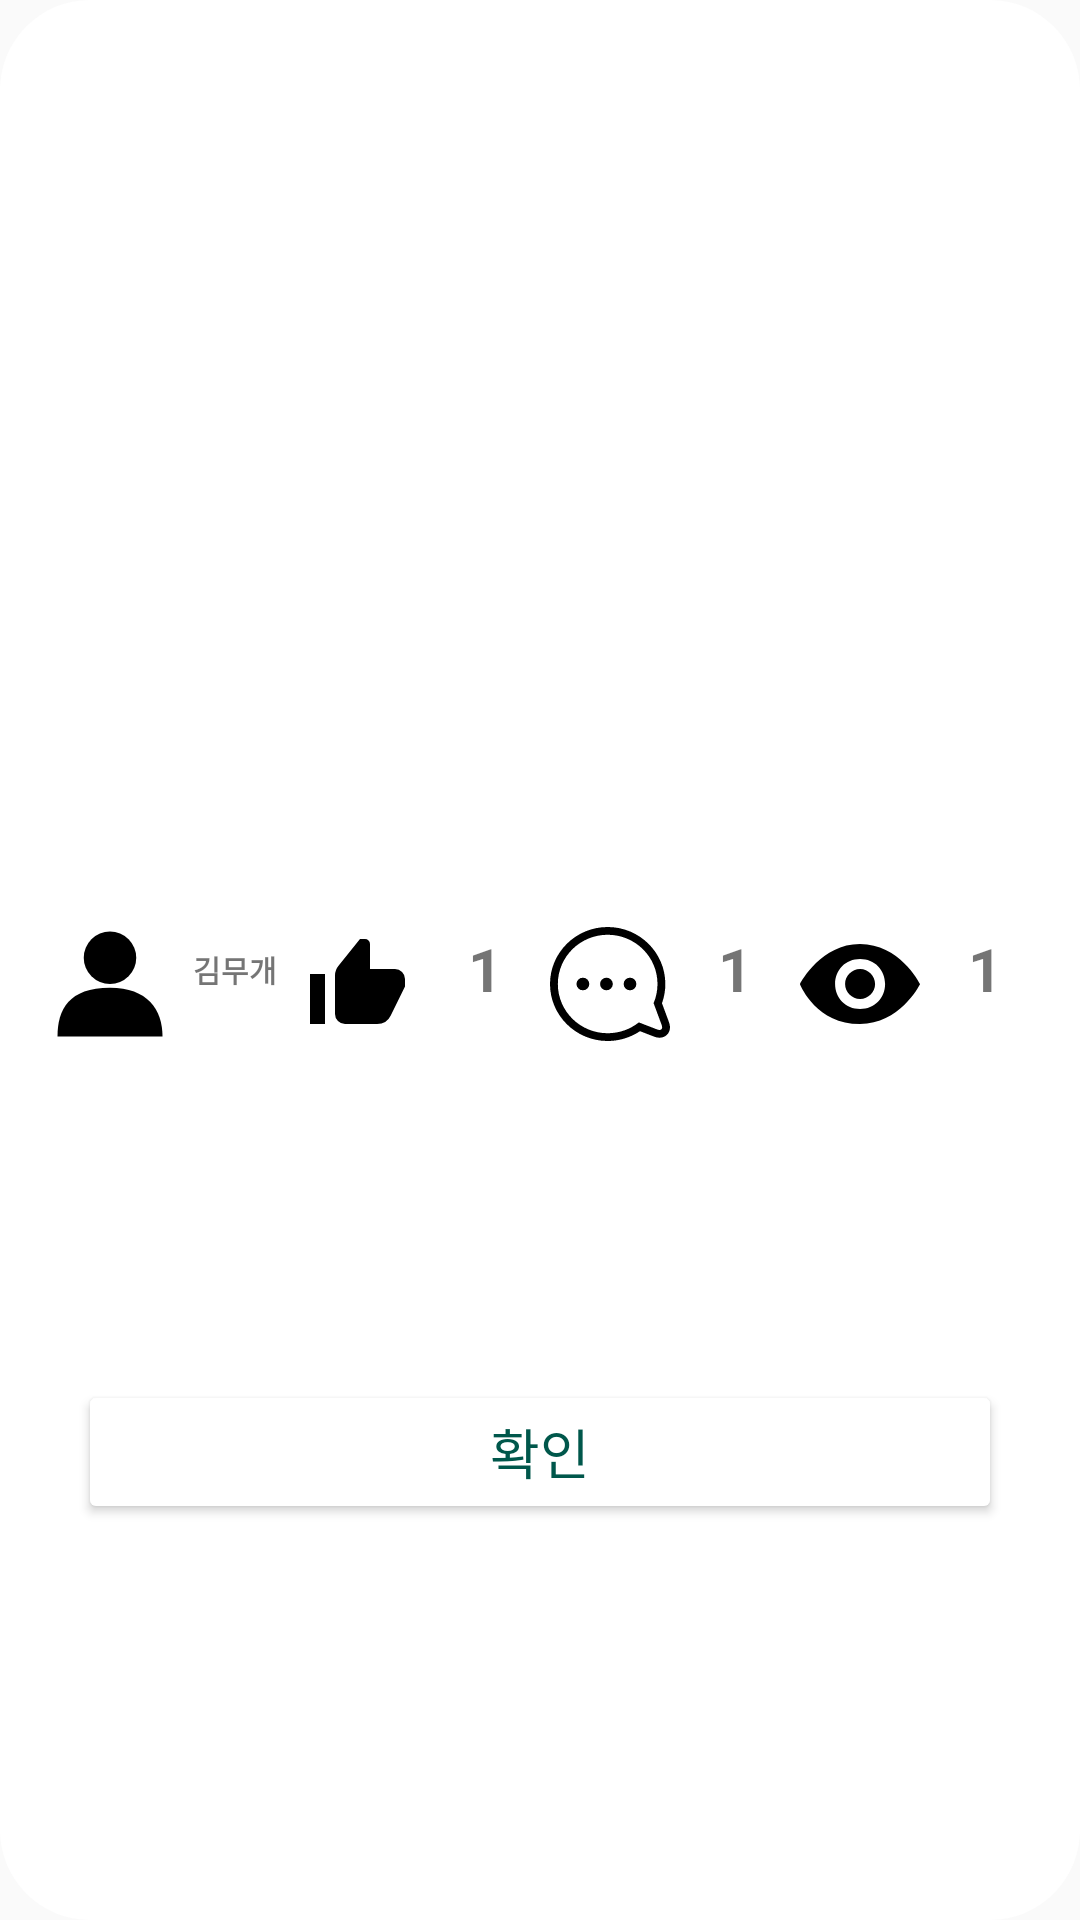

Where icons sit on this 1080*1920 app screen, as (x1, y1, x2, y2):
like: (310, 939, 405, 1024)
rank writer: (57, 931, 163, 1037)
reply: (550, 927, 670, 1041)
view: (800, 944, 920, 1024)
